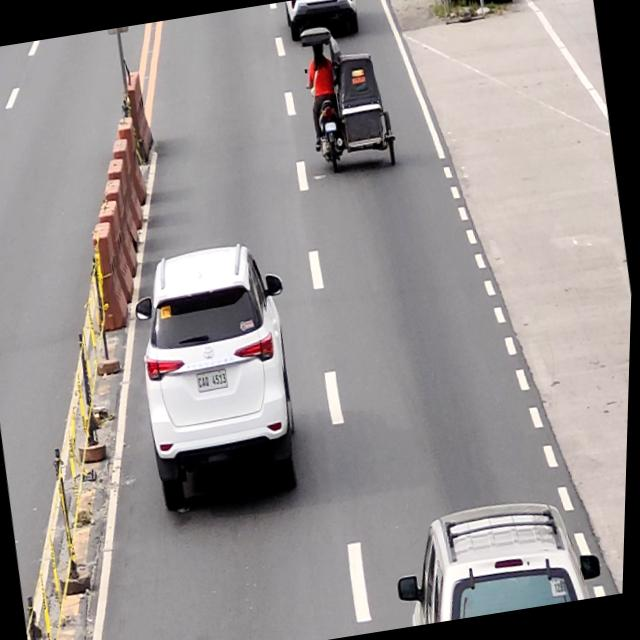Car: (123, 235, 318, 518), (388, 489, 611, 628)
License-Plate: (197, 368, 231, 393), (324, 122, 338, 133)
Tricycle: (295, 18, 404, 180)
